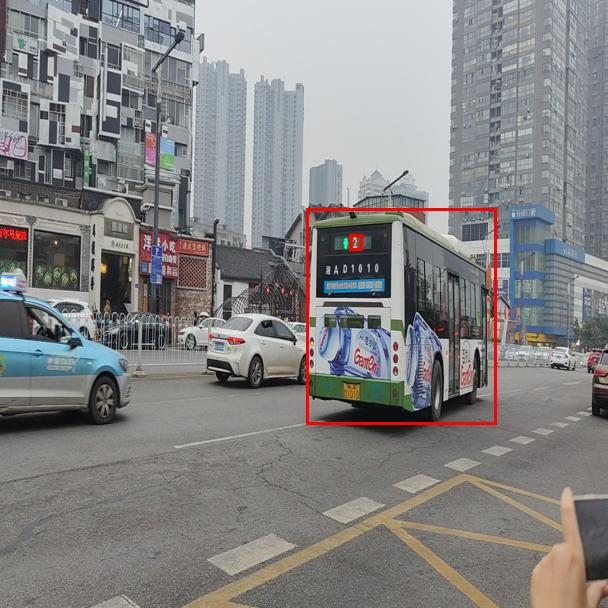bus: (306, 208, 496, 424)
screen: (349, 234, 362, 250)
